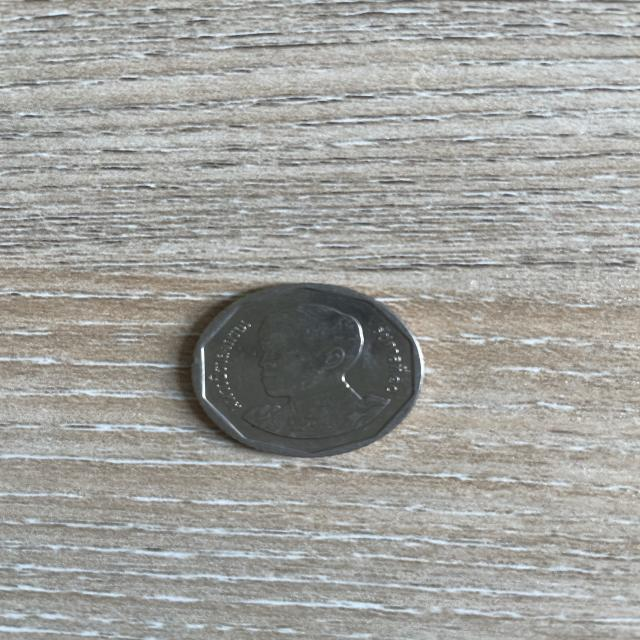5 Bath: (186, 281, 437, 465)
